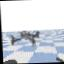drone: (9, 30, 39, 47)
